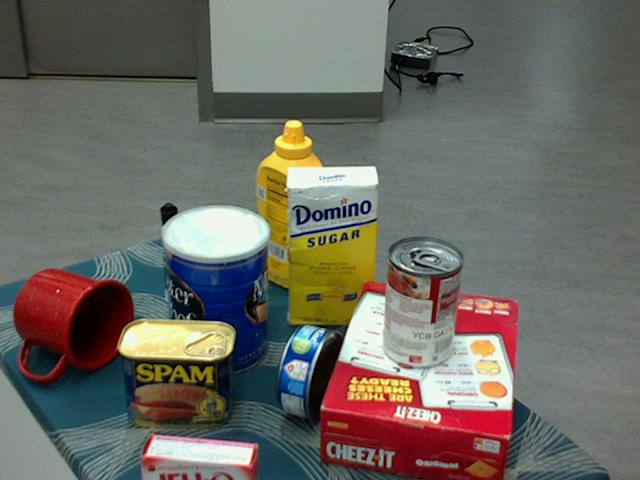cracker_box: (318, 283, 516, 479)
gelatin_box: (138, 432, 254, 479)
large_marker: (160, 202, 179, 303)
master_chef_can: (162, 206, 269, 378)
mug: (13, 267, 133, 380)
mustard_bottle: (255, 120, 328, 293)
potted_meat_can: (117, 317, 235, 427)
sugar_box: (287, 166, 378, 326)
tomato_soup_can: (380, 238, 462, 370)
tuna_fish_can: (276, 325, 343, 421)
